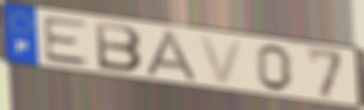0: (253, 43, 295, 93)
7: (305, 45, 345, 101)
A: (141, 28, 204, 84)
B: (92, 19, 145, 74)
E: (41, 15, 94, 68)
V: (196, 33, 247, 86)
